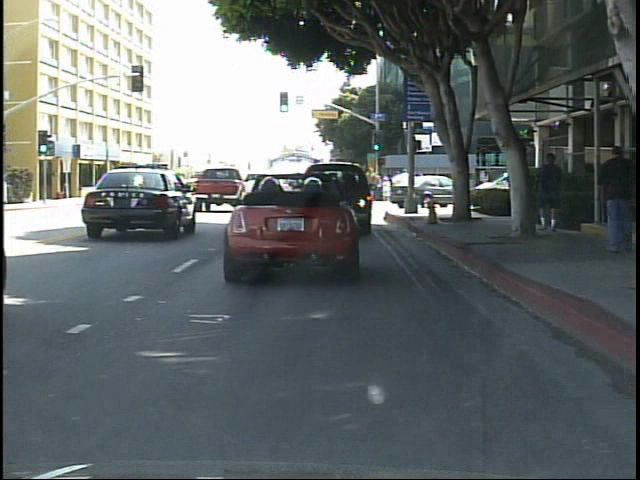person: (597, 141, 636, 260), (535, 146, 570, 236), (131, 175, 150, 202)
